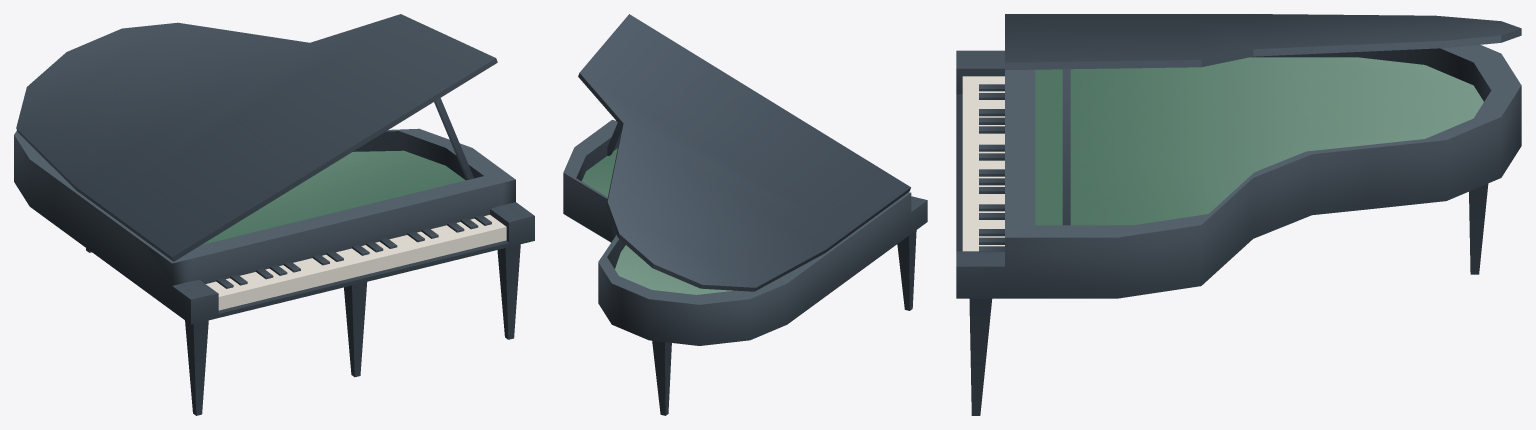
The model's file is Prop_GrandPiano.fbx.
3 renders of one model, left to right at view 1: azimuth 30°, elevation 25°; view 2: azimuth 150°, elevation 25°; view 3: azimuth 270°, elevation 25°, orthographic. The views are drawn at different scales.
Visible parts, largest first — view 1: Prop_GrandPiano; view 2: Prop_GrandPiano; view 3: Prop_GrandPiano.
Part boxes in pixels (<box>): Prop_GrandPiano: <box>14,14,534,415</box>; Prop_GrandPiano: <box>563,14,927,415</box>; Prop_GrandPiano: <box>956,14,1521,415</box>.
Size of the model in its own units: 444 by 336 by 491.
